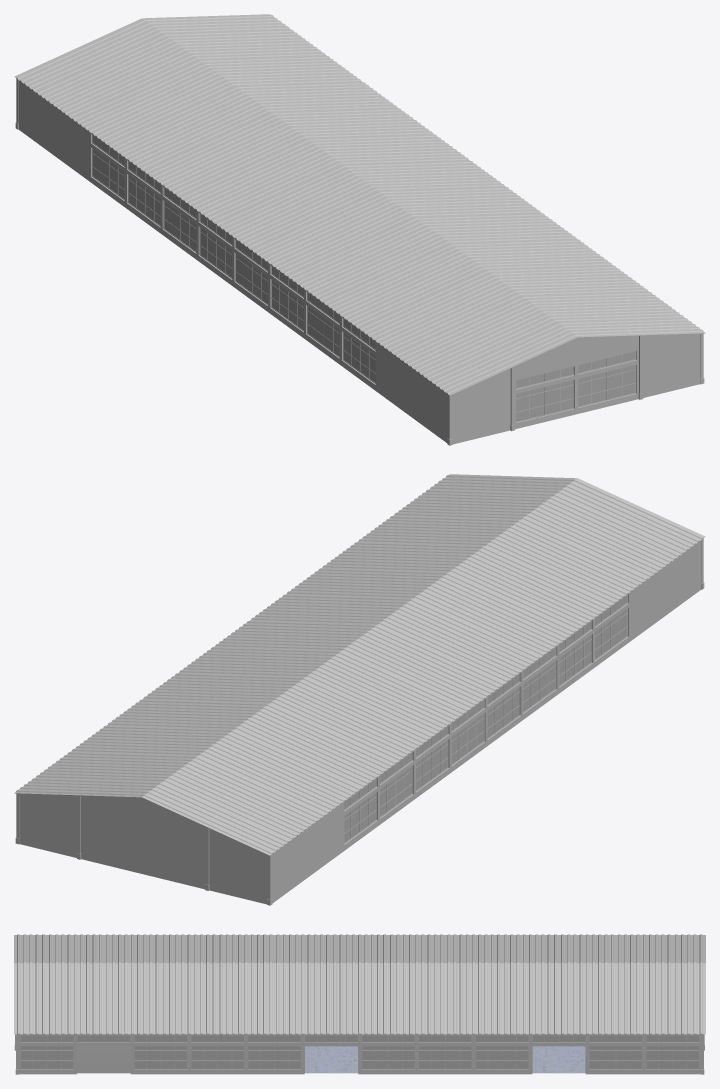
File: warehouse_1.dae
3 views of the same model, one above another, from view 1: azimuth 30°, elevation 25°; view 2: azimuth 150°, elevation 25°; view 3: azimuth 270°, elevation 25° (orthographic). The views are drawn at different scales.
Parts seen in each view (by area): view 1: roof_rightEnd001; view 2: roof_rightEnd001; view 3: roof_rightEnd001.
Boxes of the visible parts, box(x1,y1,x2,y2) form: roof_rightEnd001: box(14, 14, 705, 445); roof_rightEnd001: box(14, 474, 705, 905); roof_rightEnd001: box(14, 934, 705, 1074).
Size of the model in its own units: 31.55 by 93.01 by 9.3.
